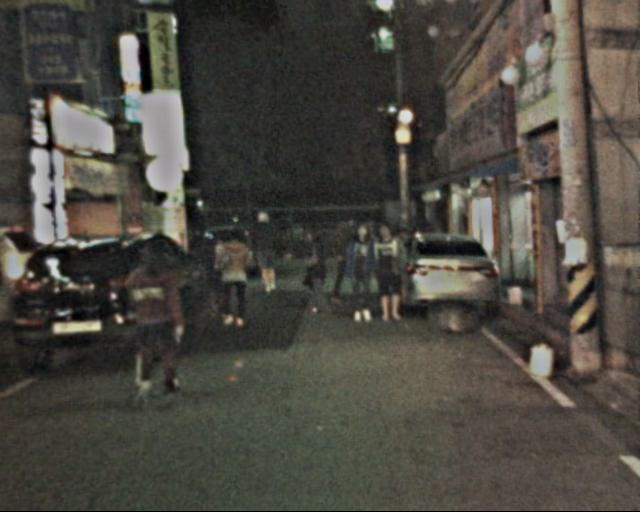person: (119, 243, 186, 393), (212, 230, 257, 329), (365, 220, 409, 320), (338, 224, 381, 317), (241, 207, 283, 292), (294, 230, 334, 316), (182, 223, 222, 308), (326, 217, 366, 297)
